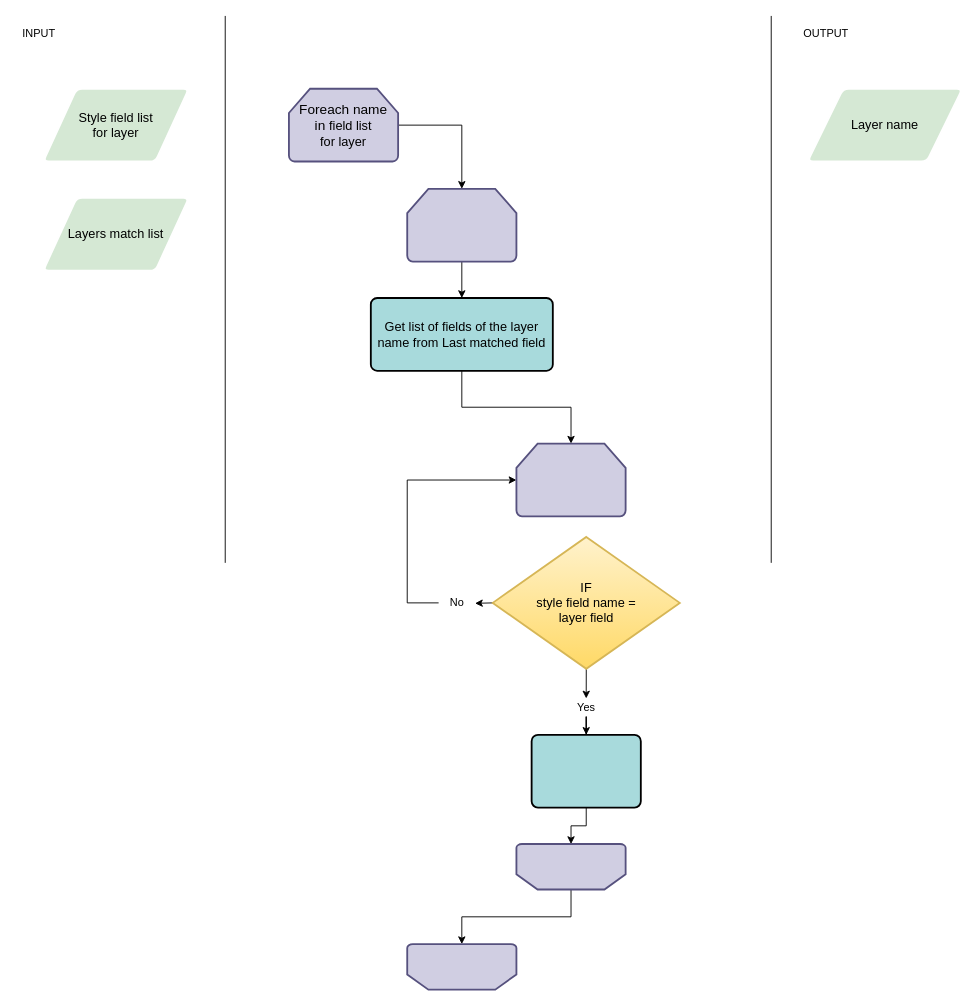
The diagram is 978 pixels wide and 1006 high, and some of its shapes have lost their labels. The shapes that lost their labels are listed below. From the top down, each one's centre as x and y in pixels, then its label:
At (x=461, y=224): "Foreach name in Layers match list".
At (x=570, y=479): "Foreach field in layer fields list".
At (x=585, y=770): "Get layer name".
